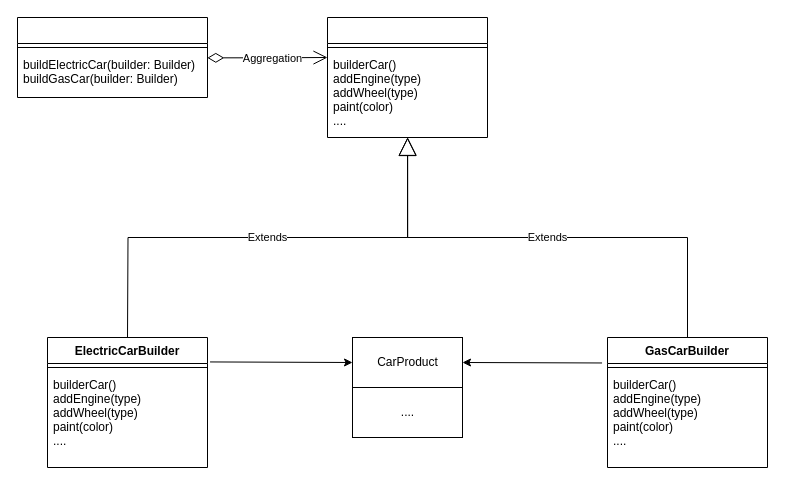
This 785x488 diagram has some shape labels left out. The shapes that lost their labels are listed below. From the top down, each one's box as (x1, y1, x2, y2) in pixels, then its label:
(16, 16, 208, 98): BuilderDirector
(326, 16, 488, 138): CarBuilder
